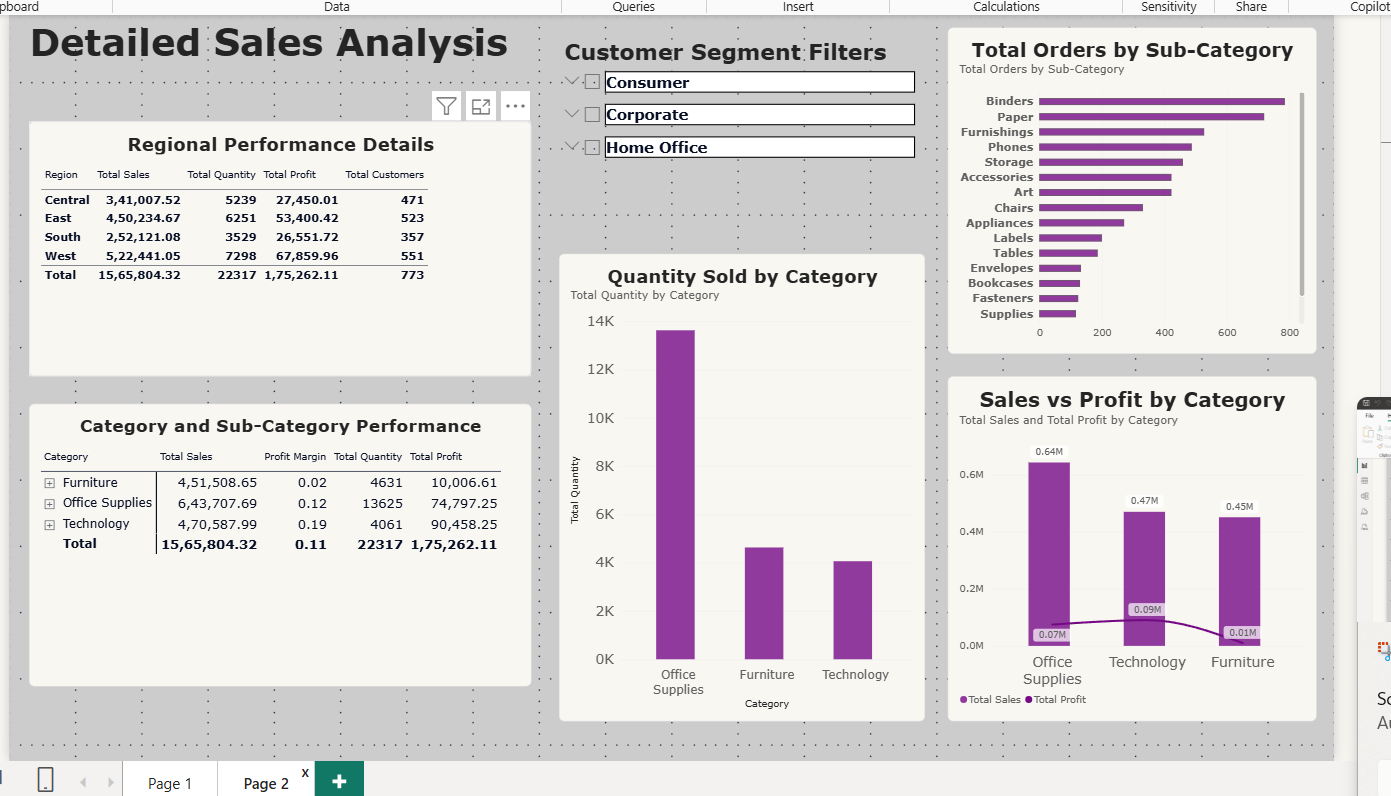

What the dashboard file says about the page in this screenshot:
{"tool":"powerbi","page":{"name":"Page 2","canvas":[1920,1080],"ordinal":1},"visuals":[{"type":"clusteredColumnChart","title":"Quantity Sold by Category","fields":{"Category":["SuperStore_Sales_Dataset.Category"],"Y":["DateTable.Total Quantity"]},"box":[797,346,530.7,677.4],"z":0},{"type":"tableEx","title":"Regional Performance Details","fields":{"Values":["SuperStore_Sales_Dataset.Region","DateTable.Total Sales","DateTable.Total Quantity","DateTable.Total Profit","DateTable.Total Customers"]},"box":[29,154,728.2,369.5],"z":1000},{"type":"lineStackedColumnComboChart","title":"Sales vs Profit by Category","fields":{"Category":["SuperStore_Sales_Dataset.Category"],"Y":["DateTable.Total Sales"],"Y2":["DateTable.Total Profit"]},"box":[1360.3,523.5,534.3,499.9],"z":2000},{"type":"pivotTable","title":"Category and Sub-Category Performance","fields":{"Rows":["SuperStore_Sales_Dataset.Category","SuperStore_Sales_Dataset.Sub-Category"],"Values":["DateTable.Total Sales","DateTable.Profit Margin","DateTable.Total Quantity","DateTable.Total Profit"]},"box":[29,563.3,728.2,409.4],"z":3000},{"type":"barChart","title":"Total Orders by Sub-Category","fields":{"Category":["SuperStore_Sales_Dataset.Sub-Category"],"Y":["DateTable.Total Orders"]},"box":[1360.3,18.1,534.3,472.8],"z":4000},{"type":"textbox","box":[0,5.4,1135.7,72.5],"z":5000},{"type":"slicer","fields":{"Values":["SuperStore_Sales_Dataset.Segment","SuperStore_Sales_Dataset.Sub-Category","SuperStore_Sales_Dataset.Ship Mode"]},"box":[797,32.6,516.2,277.1],"z":6000}]}

Visuals, with their boxes on the page's 1920x1080 design canvas (x1, y1, x2, y2). These are canvas units, not pixel positions in the 1391x796 screenshot, which may show the page scaled, cropped or inside an application window:
"Quantity Sold by Category" clusteredColumnChart: bbox=[797, 346, 1328, 1023]
"Regional Performance Details" tableEx: bbox=[29, 154, 757, 524]
"Sales vs Profit by Category" lineStackedColumnComboChart: bbox=[1360, 524, 1895, 1023]
"Category and Sub-Category Performance" pivotTable: bbox=[29, 563, 757, 973]
"Total Orders by Sub-Category" barChart: bbox=[1360, 18, 1895, 491]
textbox: bbox=[0, 5, 1136, 78]
slicer - SuperStore_Sales_Dataset.Segment x SuperStore_Sales_Dataset.Sub-Category: bbox=[797, 33, 1313, 310]
